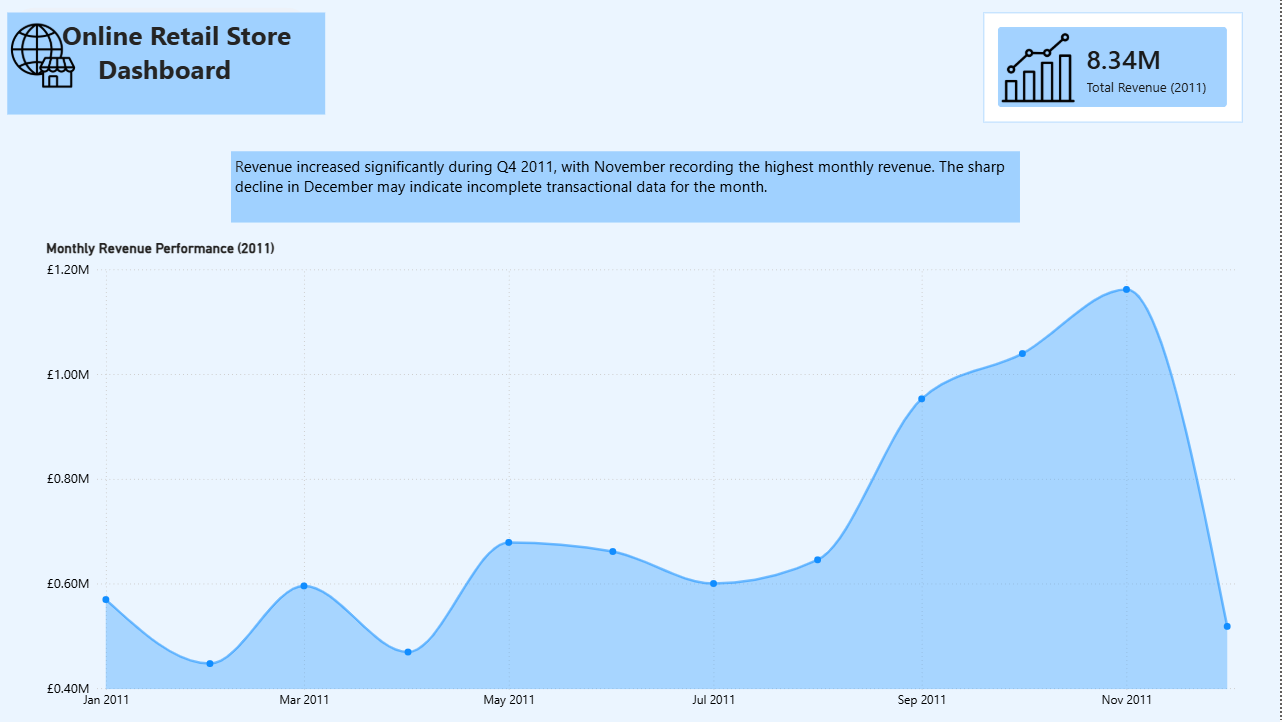

The dashboard page shown, as its layout file describes it:
{"tool":"powerbi","page":{"name":"Trend analysis","canvas":[1570,900],"ordinal":0},"visuals":[{"type":"lineChart","title":"Monthly Revenue Performance (2011)","fields":{"Category":["Custom Calendar.Month start.Variation.Date Hierarchy.Year","Custom Calendar.Month start.Variation.Date Hierarchy.Quarter","Custom Calendar.Month start.Variation.Date Hierarchy.Month","Custom Calendar.Month start.Variation.Date Hierarchy.Day"],"Y":["All measures.Total Revenue"]},"box":[56.6,305.7,1487.3,582.4],"z":0},{"type":"cardVisual","fields":{"Data":["All measures.Revenue of 2011"]},"box":[1206.8,26.9,316.4,134.6],"z":1000},{"type":"shape","box":[13.5,21.9,375.3,117.8],"z":2000},{"type":"textbox","box":[13.5,26.9,388.8,124.6],"z":3000},{"type":"image","box":[10.1,40.4,94.3,80.8],"z":4000},{"type":"textbox","box":[287.8,196.9,964.4,87.5],"z":5000}]}

Visuals, with their boxes in screenshot pixels (x1, y1, x2, y2), scaled from the page's 1570x900 canvas onto the 1282x722 screenshot:
"Monthly Revenue Performance (2011)" lineChart: x1=46, y1=245, x2=1261, y2=712
cardVisual - All measures.Revenue of 2011: x1=985, y1=22, x2=1244, y2=130
shape: x1=11, y1=18, x2=317, y2=112
textbox: x1=11, y1=22, x2=329, y2=122
image: x1=8, y1=32, x2=85, y2=97
textbox: x1=235, y1=158, x2=1022, y2=228
